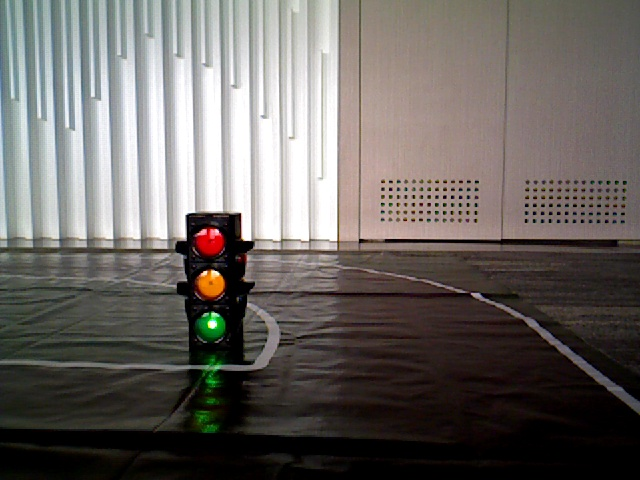green: (188, 225, 240, 352)
